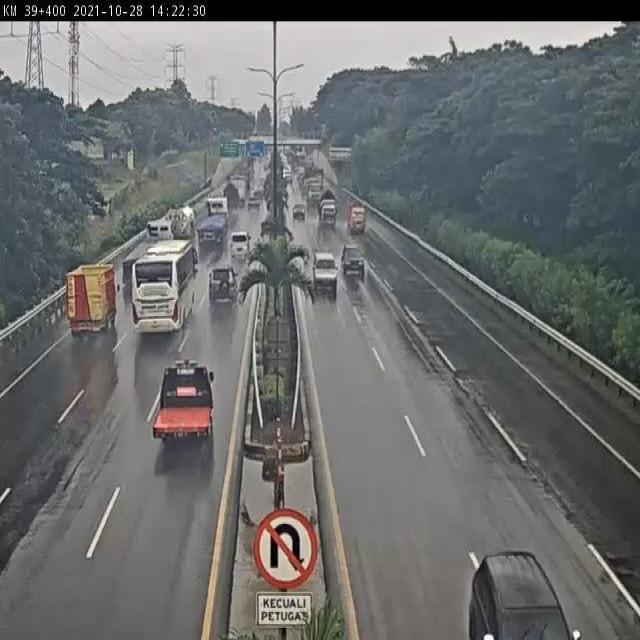bus-l-: (131, 240, 198, 333)
car: (462, 524, 565, 640), (311, 247, 337, 290), (208, 267, 237, 305), (340, 240, 364, 275), (231, 233, 251, 260)
truck-l-: (124, 219, 176, 273), (196, 193, 231, 248)
truck-m-: (164, 201, 200, 247)
truck-s-: (152, 362, 216, 442), (66, 266, 117, 338), (318, 188, 340, 233), (346, 193, 369, 235)
